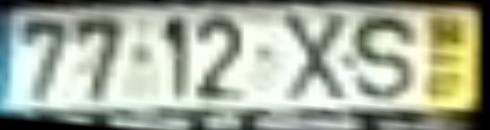1: (160, 14, 193, 107)
2: (191, 16, 253, 109)
7: (74, 19, 132, 111), (20, 17, 74, 108)
S: (347, 14, 423, 108)
X: (282, 11, 355, 107)
